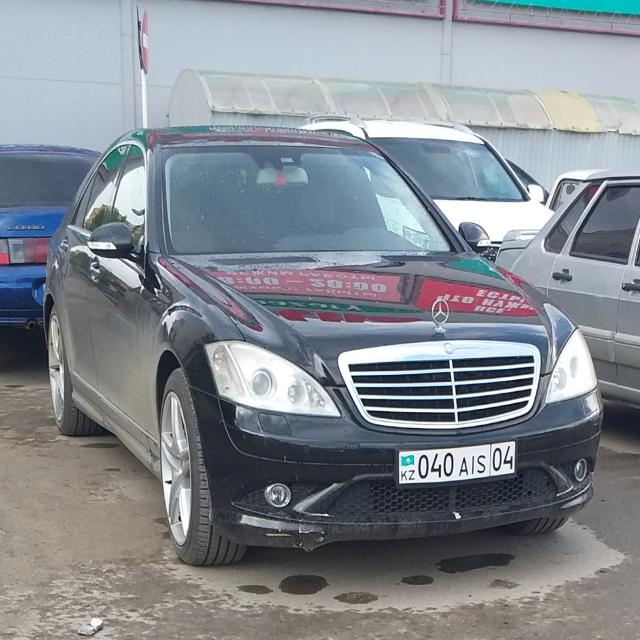car: (41, 125, 604, 566), (295, 115, 555, 262), (494, 170, 640, 410), (0, 143, 103, 334)
license: (396, 439, 516, 486)
